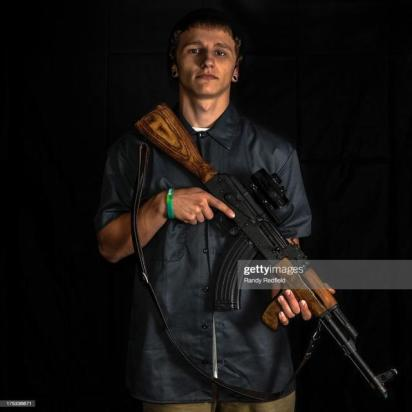Gun: (130, 101, 404, 408)
